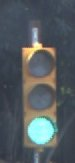Green: (15, 41, 62, 149)
